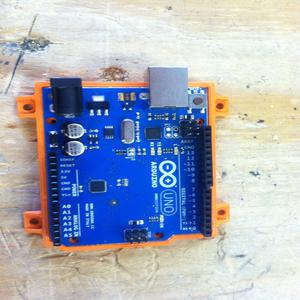duino: (40, 63, 213, 242)
